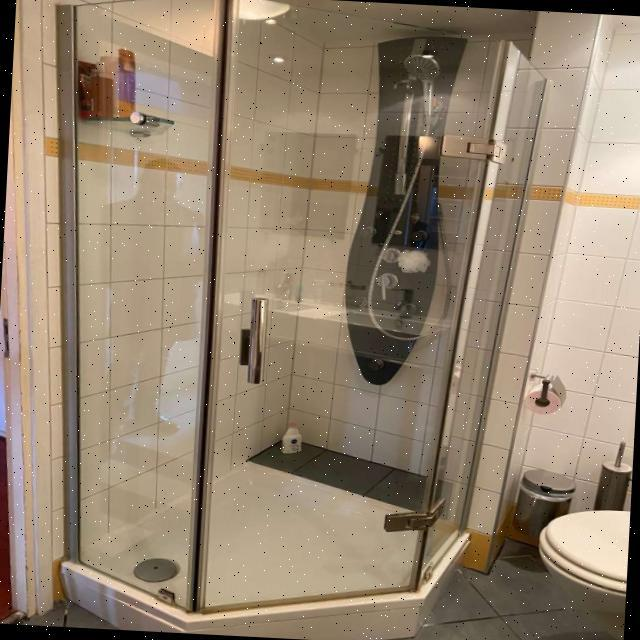douche: (21, 0, 555, 640), (528, 505, 630, 640)
